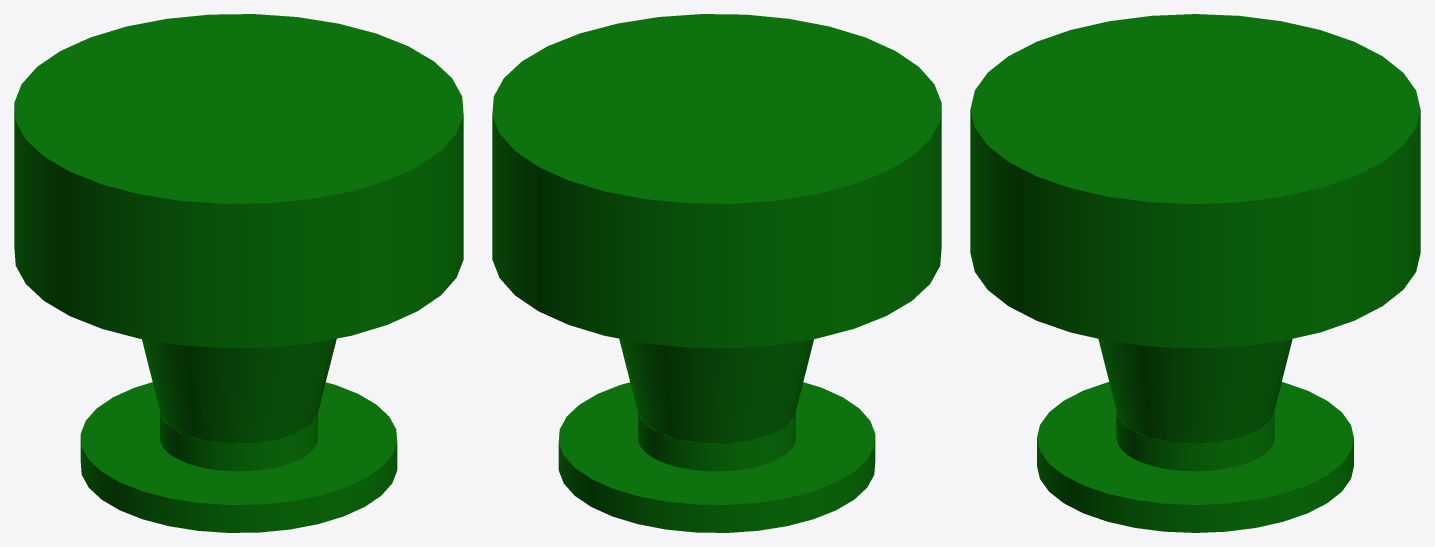
Rendered from Image-1710907553392-2281220978592_27-CX50.fbx.
3 views of the same model, side by side, from view 1: azimuth 30°, elevation 25°; view 2: azimuth 150°, elevation 25°; view 3: azimuth 270°, elevation 25° (orthographic).
Visible parts, largest first — view 1: CYLINDER 2 of SUBEQUIPMENT 1 of EQUIPMENT /27-CX50, /27-CX50/INLET, CONE 1 of SUBEQUIPMENT 1 of EQUIPMENT /27-CX50; view 2: CYLINDER 2 of SUBEQUIPMENT 1 of EQUIPMENT /27-CX50, /27-CX50/INLET, CONE 1 of SUBEQUIPMENT 1 of EQUIPMENT /27-CX50; view 3: CYLINDER 2 of SUBEQUIPMENT 1 of EQUIPMENT /27-CX50, /27-CX50/INLET, CONE 1 of SUBEQUIPMENT 1 of EQUIPMENT /27-CX50.
Boxes of the visible parts, x1,y1,x2,y2 form: CYLINDER 2 of SUBEQUIPMENT 1 of EQUIPMENT /27-CX50: (14,14,463,348); /27-CX50/INLET: (80,382,397,532); CONE 1 of SUBEQUIPMENT 1 of EQUIPMENT /27-CX50: (142,338,336,443); CYLINDER 2 of SUBEQUIPMENT 1 of EQUIPMENT /27-CX50: (492,14,941,348); /27-CX50/INLET: (558,382,875,532); CONE 1 of SUBEQUIPMENT 1 of EQUIPMENT /27-CX50: (619,338,813,443); CYLINDER 2 of SUBEQUIPMENT 1 of EQUIPMENT /27-CX50: (970,14,1420,348); /27-CX50/INLET: (1037,382,1353,532); CONE 1 of SUBEQUIPMENT 1 of EQUIPMENT /27-CX50: (1098,339,1292,443).
Bounding box in the file's own units: 0.325 × 0.325 × 0.296.
